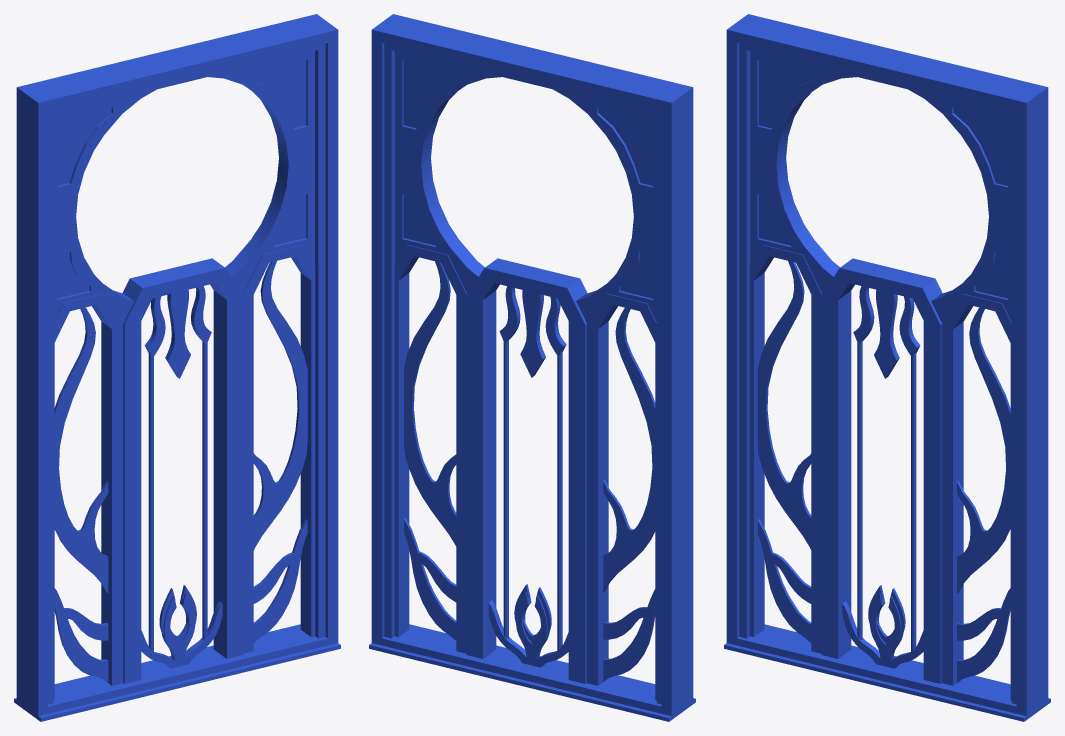
The model's file is SM_MidbossWall.fbx.
3 renders of one model, left to right at view 1: azimuth 30°, elevation 25°; view 2: azimuth 150°, elevation 25°; view 3: azimuth 330°, elevation 25°, orthographic.
Visible parts, largest first — view 1: MidbossWall01_low, MidbossWall03_low, MidbossWall02_low; view 2: MidbossWall01_low, MidbossWall03_low, MidbossWall02_low; view 3: MidbossWall01_low, MidbossWall03_low, MidbossWall02_low.
Boxes of the visible parts, x1=… form: MidbossWall01_low: x1=14, y1=14, x2=340, y2=721; MidbossWall03_low: x1=54, y1=261, x2=307, y2=682; MidbossWall02_low: x1=165, y1=289, x2=190, y2=378; MidbossWall01_low: x1=369, y1=14, x2=695, y2=721; MidbossWall03_low: x1=404, y1=261, x2=655, y2=681; MidbossWall02_low: x1=520, y1=290, x2=545, y2=377; MidbossWall01_low: x1=724, y1=14, x2=1050, y2=721; MidbossWall03_low: x1=757, y1=261, x2=1010, y2=682; MidbossWall02_low: x1=874, y1=289, x2=899, y2=378.
Size of the model in its own units: 1035 by 2034 by 160.
